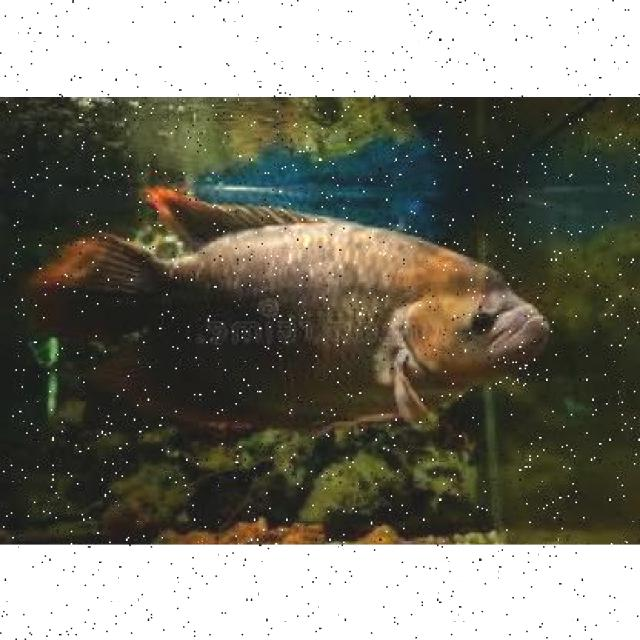gurame: (42, 196, 552, 430)
